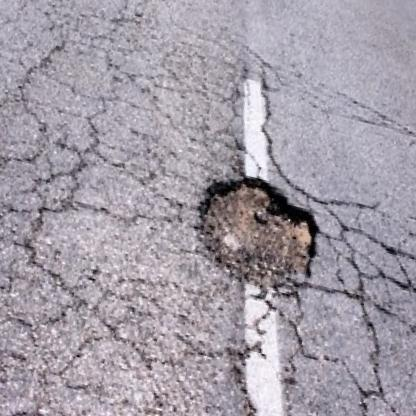pothole: (179, 163, 331, 301)
